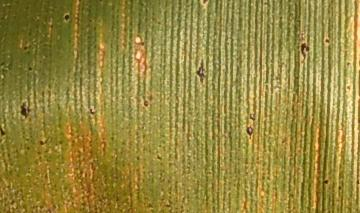tarspot: (194, 55, 211, 89), (297, 38, 313, 64), (18, 97, 33, 123), (58, 8, 76, 25), (242, 124, 261, 139), (139, 95, 154, 113), (1, 122, 13, 141), (84, 104, 100, 117), (321, 32, 334, 48), (320, 175, 332, 189), (245, 111, 260, 122), (35, 137, 47, 150), (24, 63, 38, 74), (21, 143, 33, 154), (21, 42, 33, 52), (343, 83, 353, 93), (344, 58, 353, 67), (197, 1, 212, 5)
